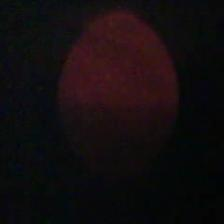fertile: (53, 10, 180, 185)
